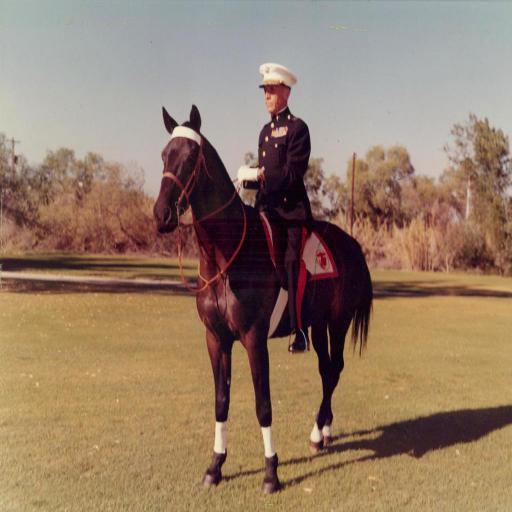horse: (150, 102, 376, 498)
